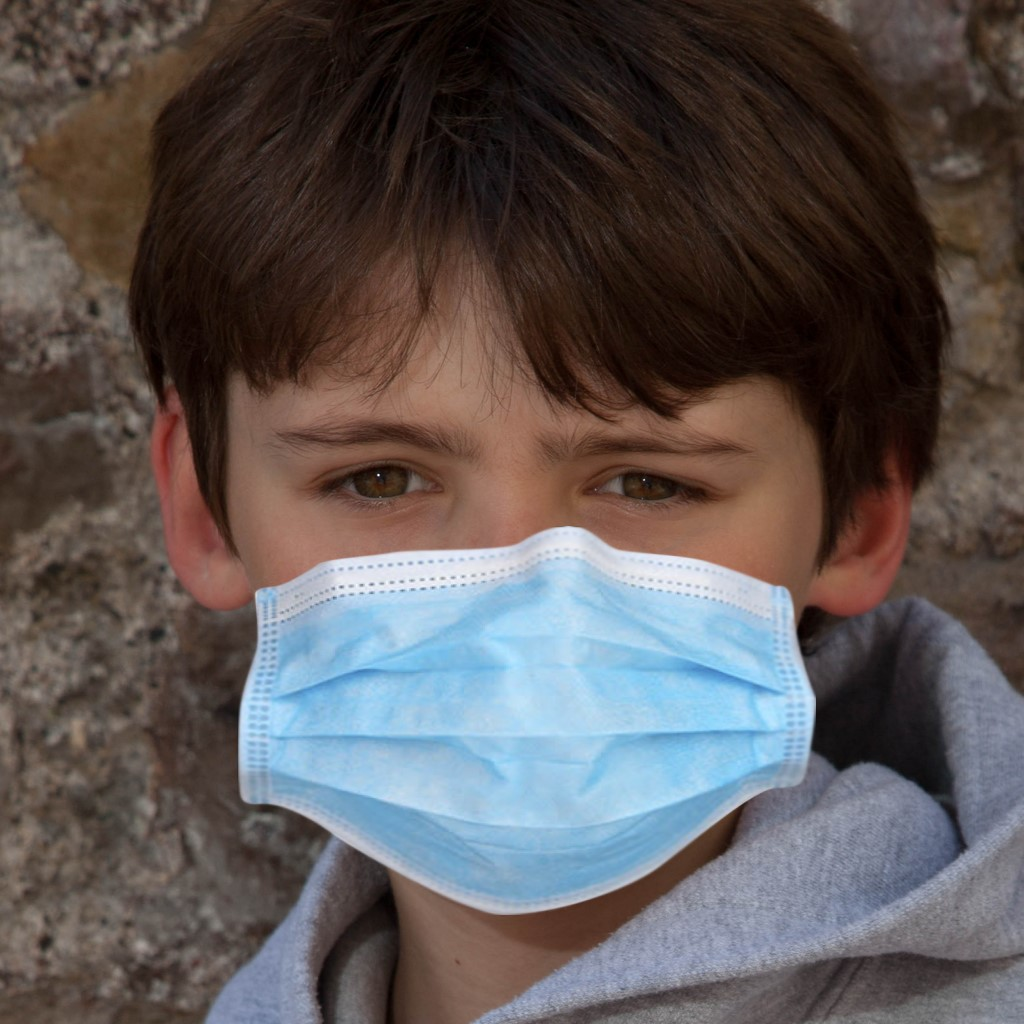con_mascara: (191, 123, 876, 903)
